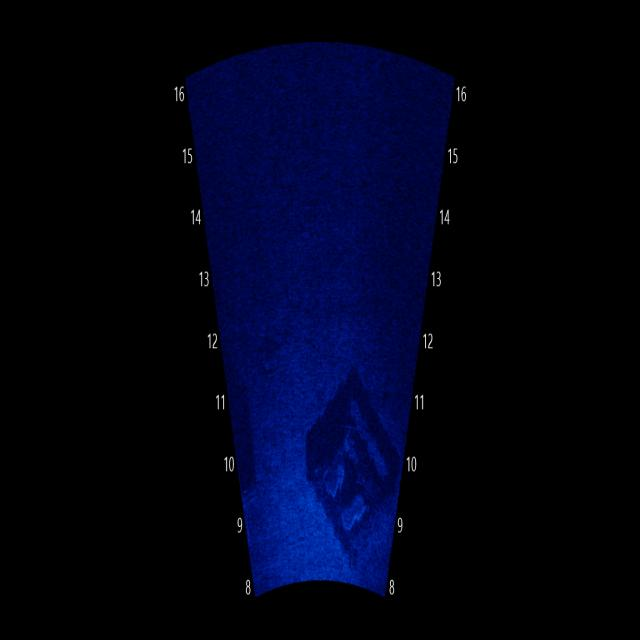square: (294, 354, 412, 570)
